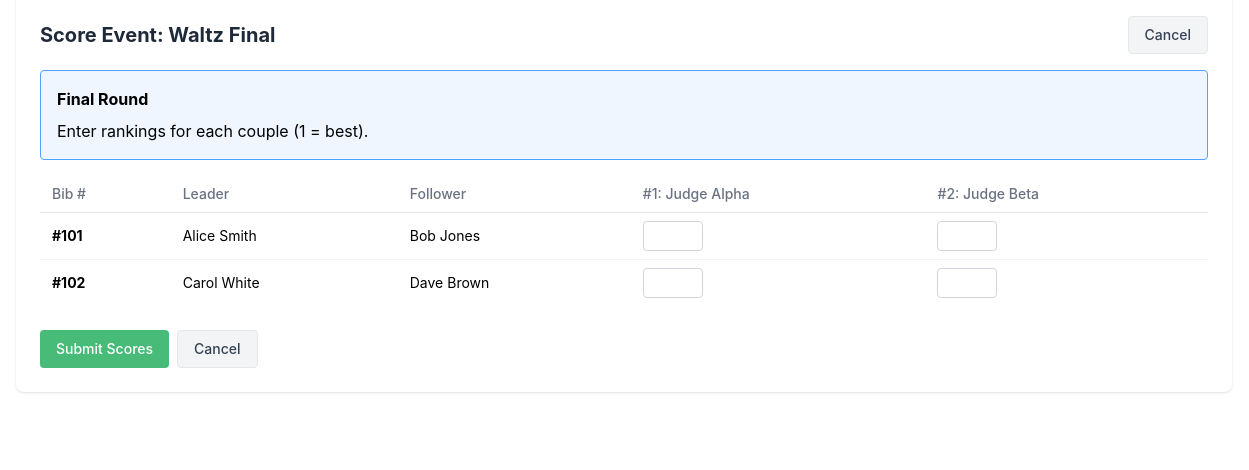
ScoreEventPage › should show a fallback error message when submission fails without response data
What coordinates should you click on to do the following:
click the button "Submit Scores"
I would click on:
 (105, 349)
Its box is [40, 330, 169, 368].
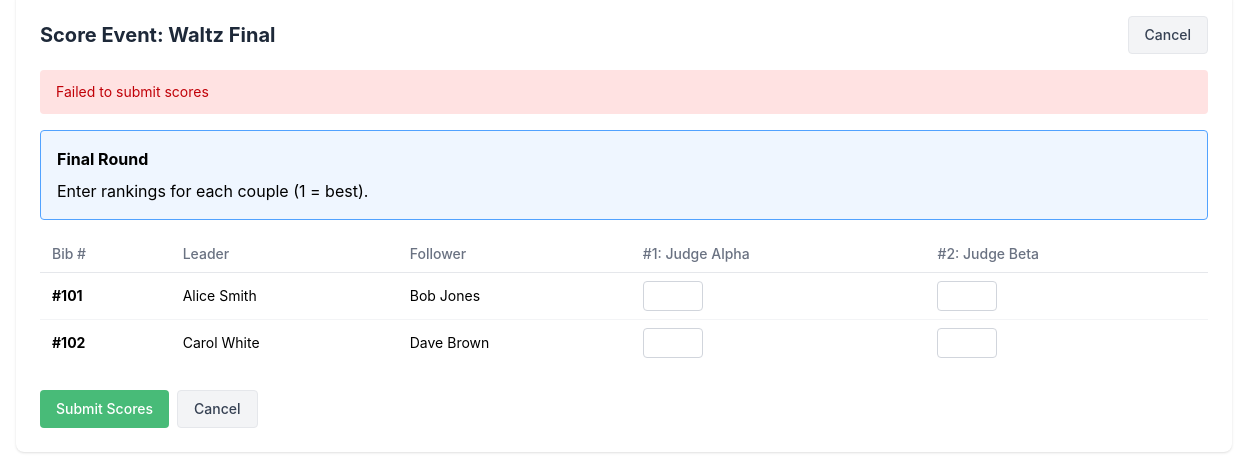
expect the text "Failed to submit scores" is shown: met, box [40, 70, 1208, 114]
